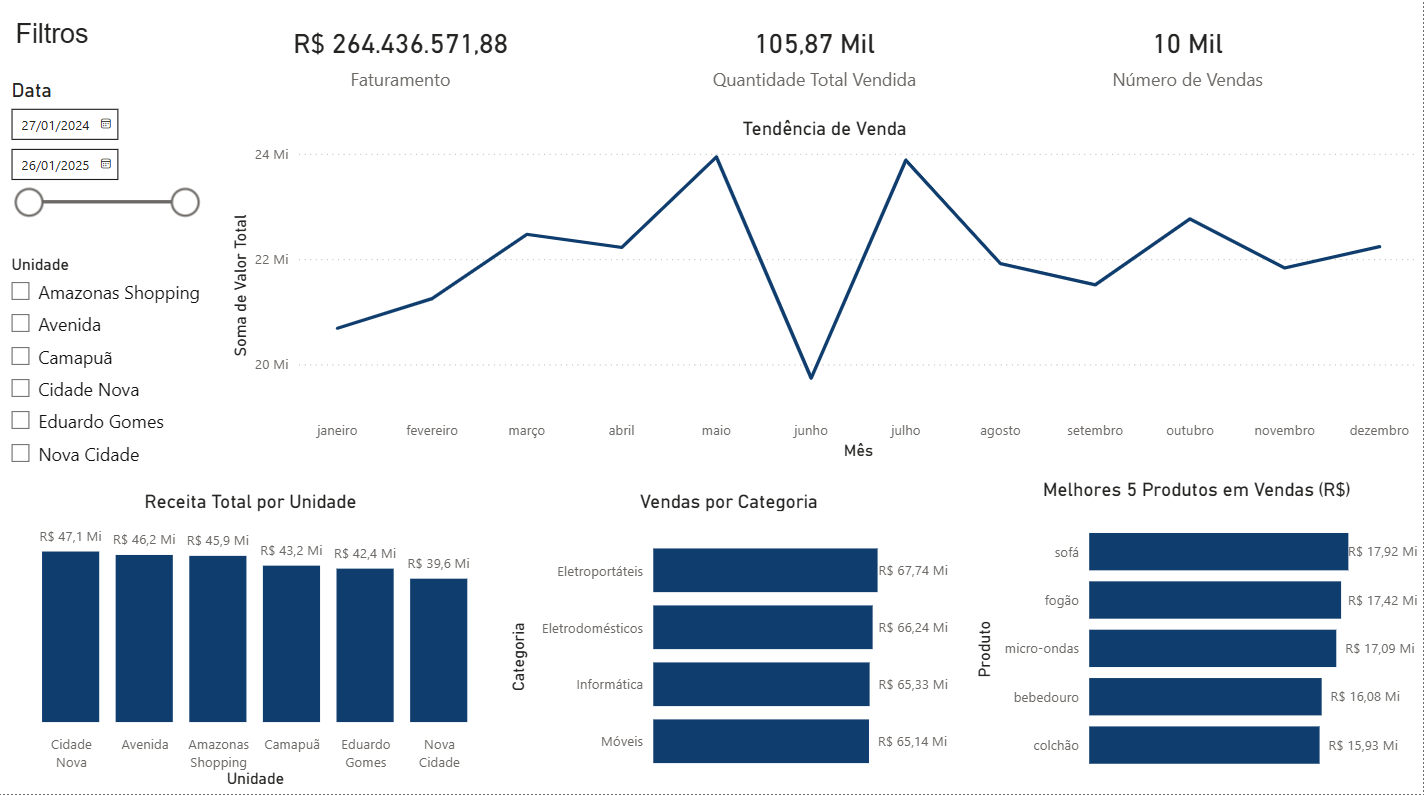

What the dashboard file says about the page in this screenshot:
{"tool":"powerbi","page":{"name":"Página 1","canvas":[1280,720],"ordinal":0},"visuals":[{"type":"slicer","fields":{"Values":["Sheet1.Unidade"]},"box":[0,231.5,189.7,204.3],"z":0},{"type":"slicer","fields":{"Values":["Sheet1.Data_compra"]},"box":[0,72,189.7,159.5],"z":1000},{"type":"card","title":"Faturamento Total","fields":{"Values":["Sum(Sheet1.Valor Total)"]},"box":[258.6,0,207.4,112.2],"z":2000},{"type":"card","title":"Número de Vendas","fields":{"Values":["CountNonNull(Sheet1.Produto)"]},"box":[994.7,0,148.1,112.2],"z":4000},{"type":"lineChart","title":"Tendência de Venda","fields":{"Y":["Sum(Sheet1.Valor Total)"],"Category":["Sheet1.Data_compra.Variation.Hierarquia de datas.Mês"]},"box":[205.6,112.2,1074.6,312.4],"z":5000},{"type":"columnChart","title":"Receita Total por Unidade","fields":{"Category":["Sheet1.Unidade"],"Y":["Sum(Sheet1.Valor Total)"]},"box":[0,447.4,455.2,272.3],"z":6000},{"type":"barChart","title":"Vendas por Categoria ","fields":{"Category":["Sheet1.Categoria","Sheet1.Produto"],"Y":["Sum(Sheet1.Valor Total)"]},"box":[455.2,447.4,403.6,272.3],"z":7000},{"type":"textbox","box":[11.7,18.9,177.8,53],"z":8000},{"type":"barChart","title":"Melhores 5 Produtos em Vendas (R$)","fields":{"Category":["Sheet1.Produto"],"Y":["Sum(Sheet1.Valor Total)"]},"box":[873.5,436.3,406.7,280.1],"z":9000},{"type":"card","fields":{"Values":["Sheet1.Receita Média por Item (R$)"]},"box":[583.5,0,300.7,112.2],"z":9001}]}

Visuals, with their boxes in screenshot pixels (x1, y1, x2, y2), scaled from the page's 1280x720 canvas onto the 1424x795 screenshot:
slicer - Sheet1.Unidade: 0,256,211,481
slicer - Sheet1.Data_compra: 0,80,211,256
"Faturamento Total" card: 288,0,518,124
"Número de Vendas" card: 1107,0,1271,124
"Tendência de Venda" lineChart: 229,124,1423,469
"Receita Total por Unidade" columnChart: 0,494,506,794
"Vendas por Categoria " barChart: 506,494,955,794
textbox: 13,21,211,79
"Melhores 5 Produtos em Vendas (R$)" barChart: 972,482,1423,791
card - Sheet1.Receita Média por Item (R$): 649,0,984,124
